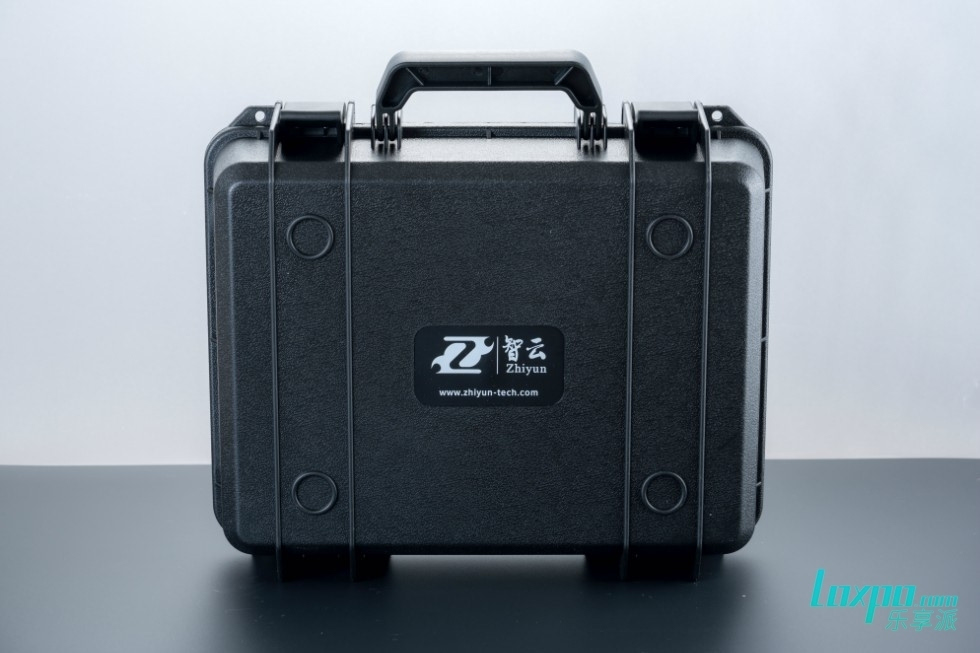shoutibox: (201, 51, 773, 567)
